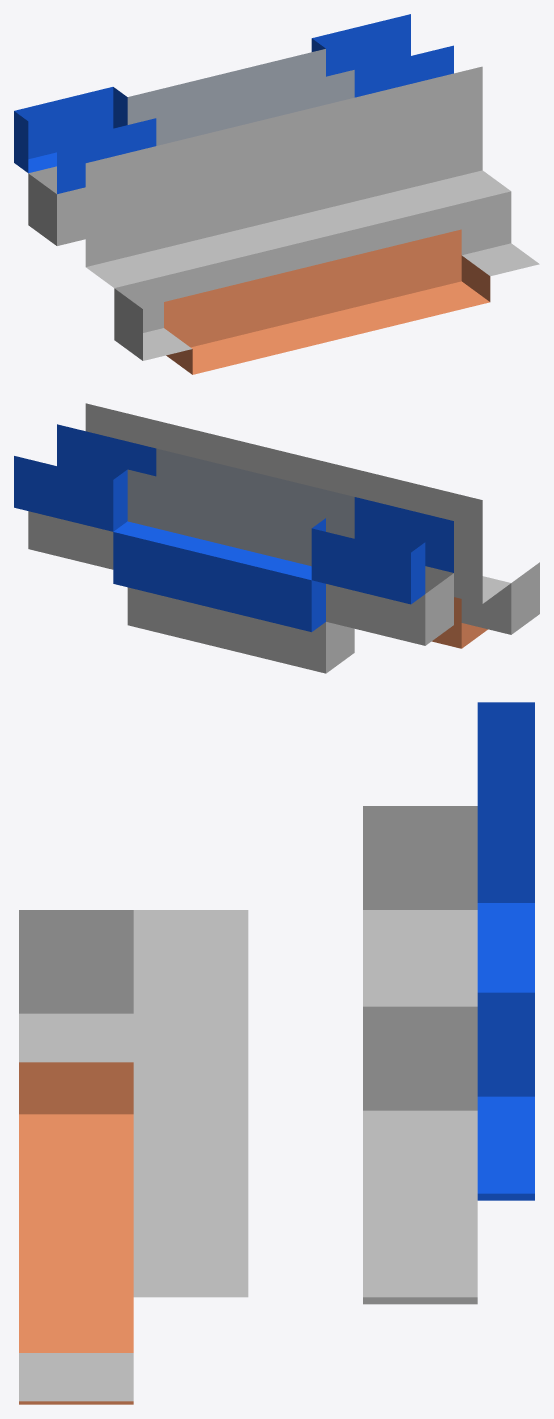
The model's file is cell_9.obj.
3 views of the same model, one above another, from view 1: azimuth 30°, elevation 25°; view 2: azimuth 150°, elevation 25°; view 3: azimuth 270°, elevation 25° (orthographic). The views are drawn at different scales.
Bounding box in the file's own units: 1 × 0.4375 × 0.5625.
